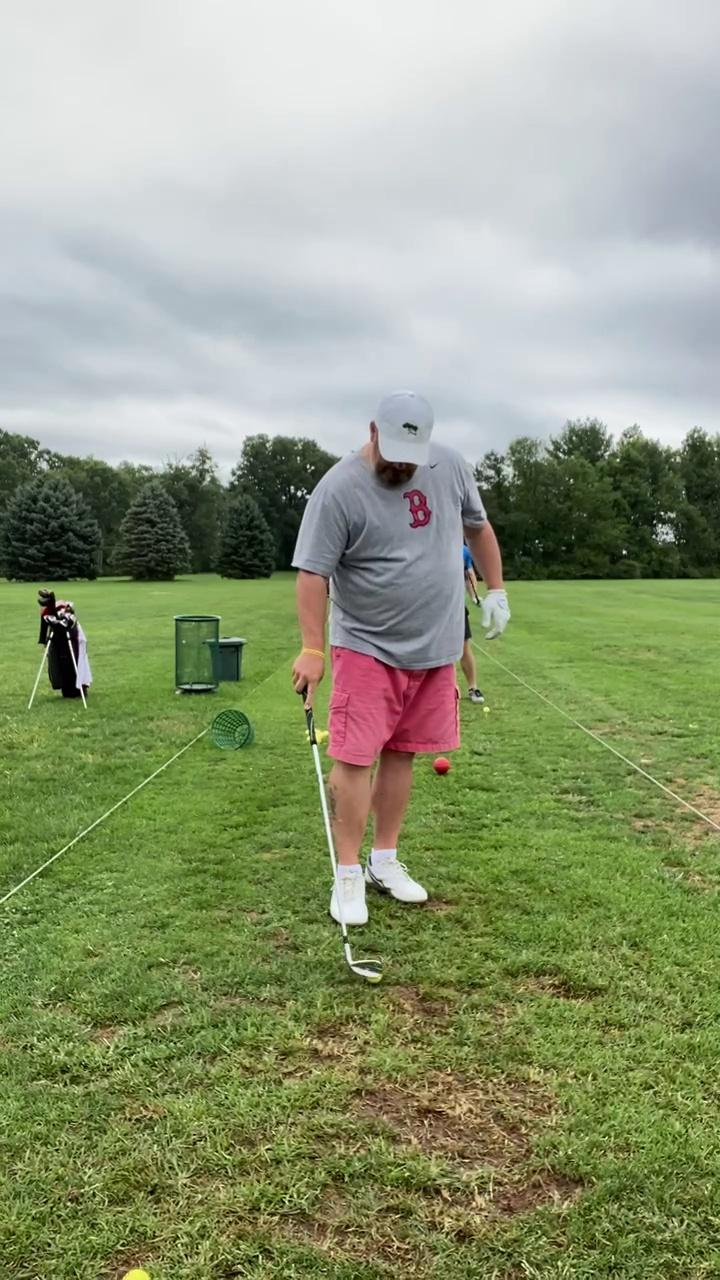ClubHead: (343, 935, 387, 998)
